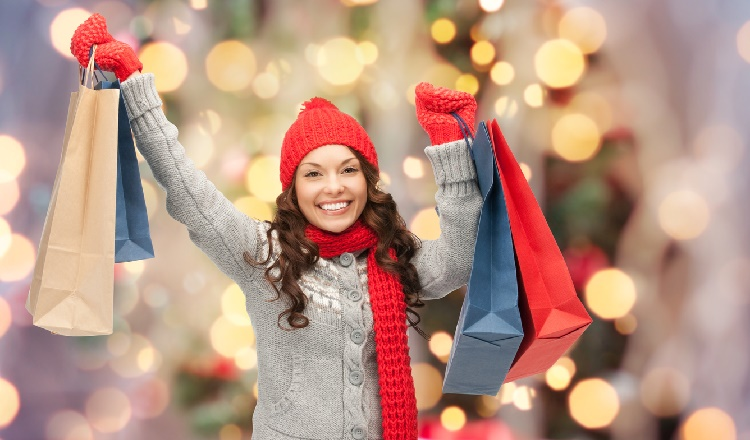Age_20_30: (282, 115, 381, 234)
E_White: (282, 115, 381, 234)
Emotion_Happy: (282, 115, 381, 234)
G_ Female: (282, 115, 381, 234)
